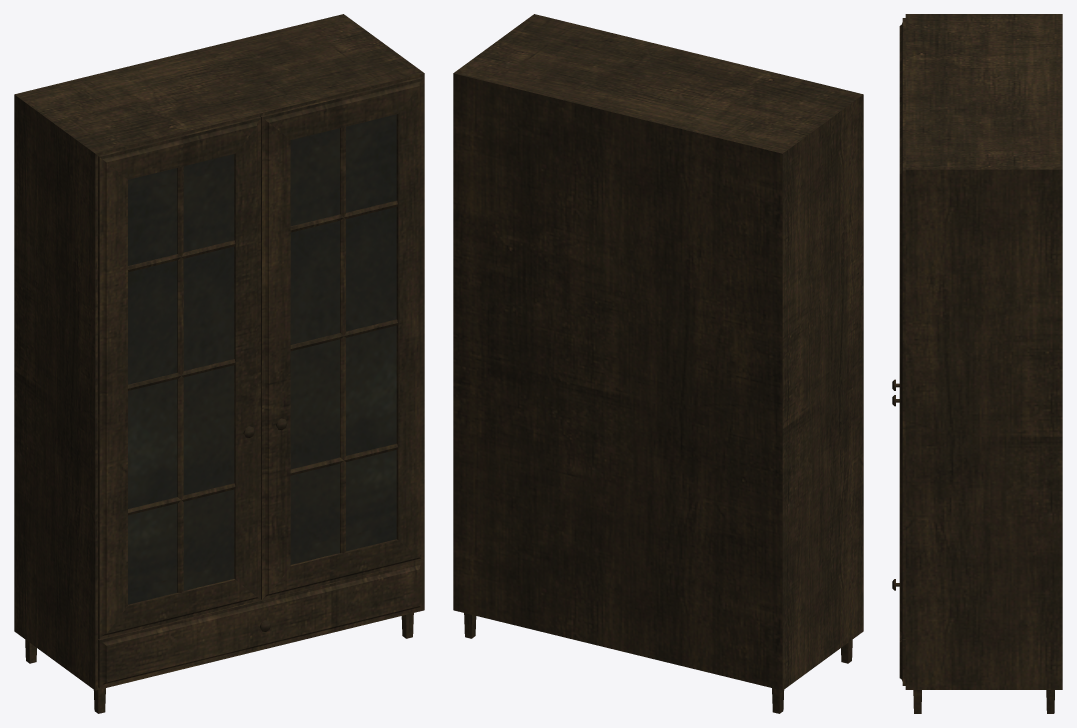
Rendered from wardrobe_mp_2_3.dae.
The picture shows the model from 3 angles, left to right: view 1: azimuth 30°, elevation 25°; view 2: azimuth 150°, elevation 25°; view 3: azimuth 270°, elevation 25°; orthographic projection. The views are drawn at different scales.
Visible parts, largest first — view 1: wardrobe_mp_2_3, wardrobe_mp_2_3_drawer; view 2: wardrobe_mp_2_3; view 3: wardrobe_mp_2_3, wardrobe_mp_2_3_drawer.
Boxes of the visible parts, left/top/right/bottom form: wardrobe_mp_2_3: left=14, top=14, right=424, bottom=713; wardrobe_mp_2_3_drawer: left=98, top=561, right=423, bottom=688; wardrobe_mp_2_3: left=453, top=14, right=863, bottom=713; wardrobe_mp_2_3: left=892, top=14, right=1062, bottom=713; wardrobe_mp_2_3_drawer: left=892, top=579, right=905, bottom=685.
Bounding box in the file's own units: 1.22 × 0.5645 × 2.
Materials: 2 (2 with a texture image).
